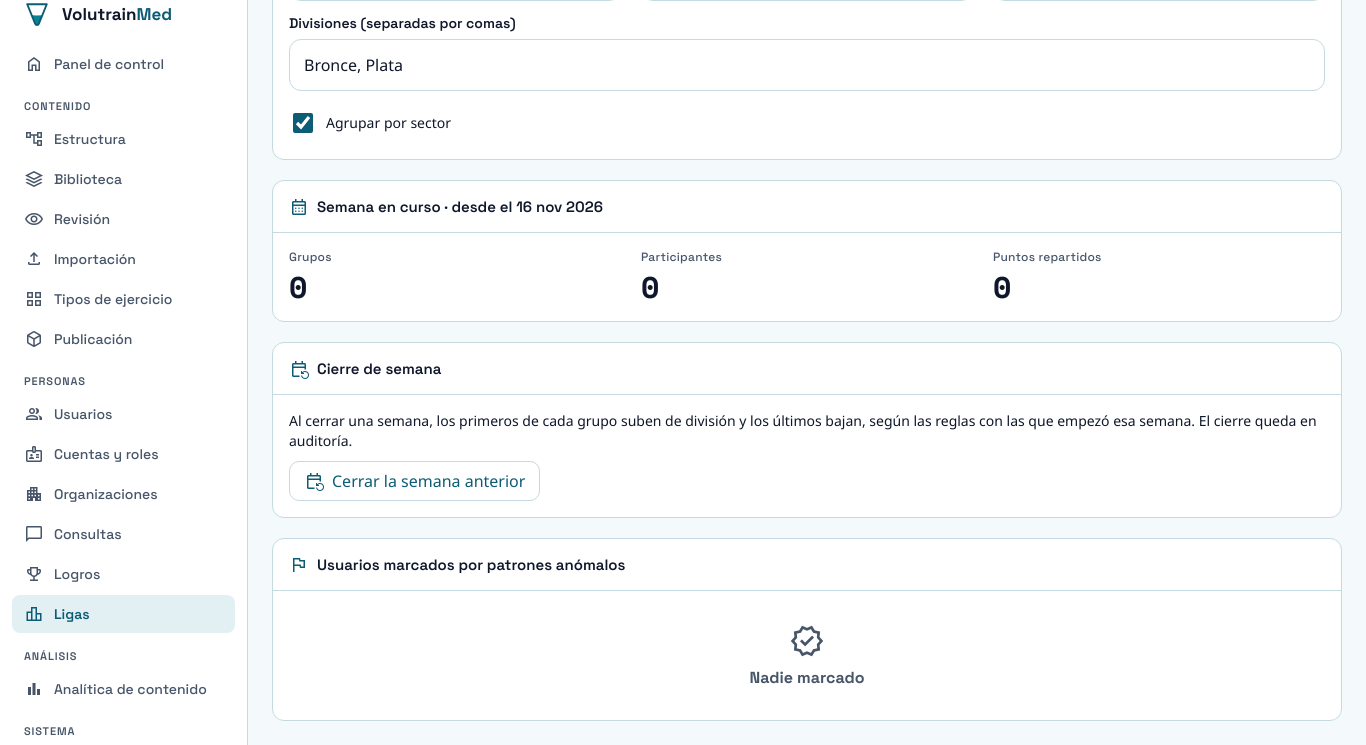
B24 · cierre de semana de las ligas › la superadministración cierra la semana anterior y ve los ascensos y descensos aplicados
(page scrolled)
Click the button "Cerrar la semana anterior" at (415, 481), box [289,461,540,501]
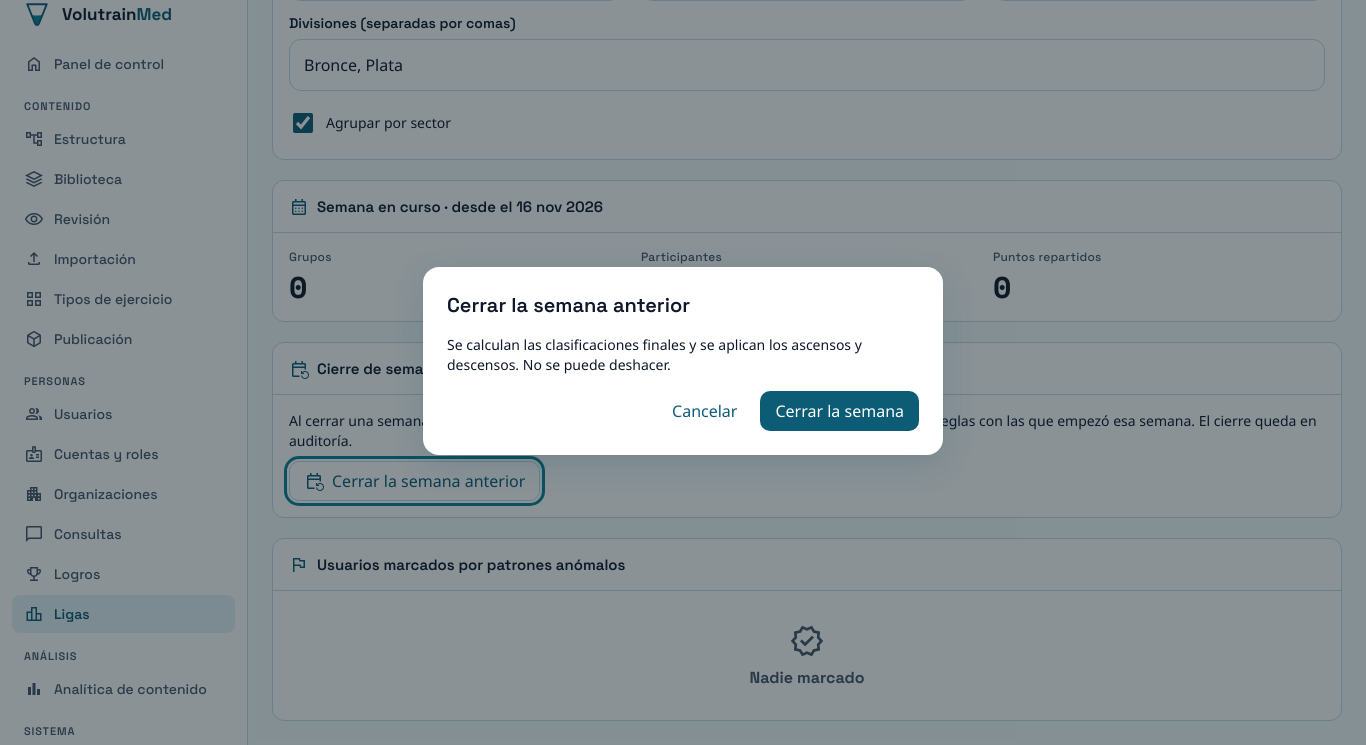
Click the button "Cerrar la semana" at (840, 411), box [760,391,919,431]
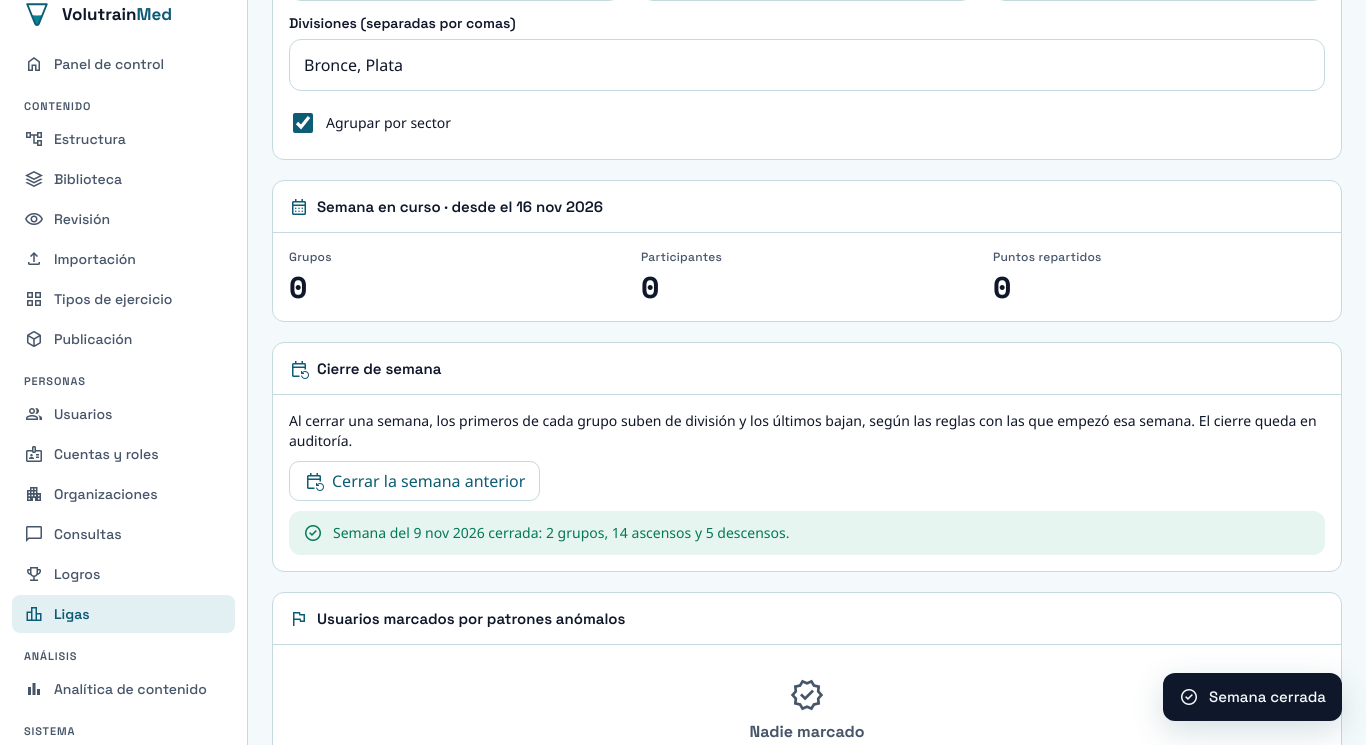
Expected: the text "Semana del 9 nov 2026 cerrada: 2 grupos, 14 ascensos y 5 descensos." is shown, [333,523,790,542]
